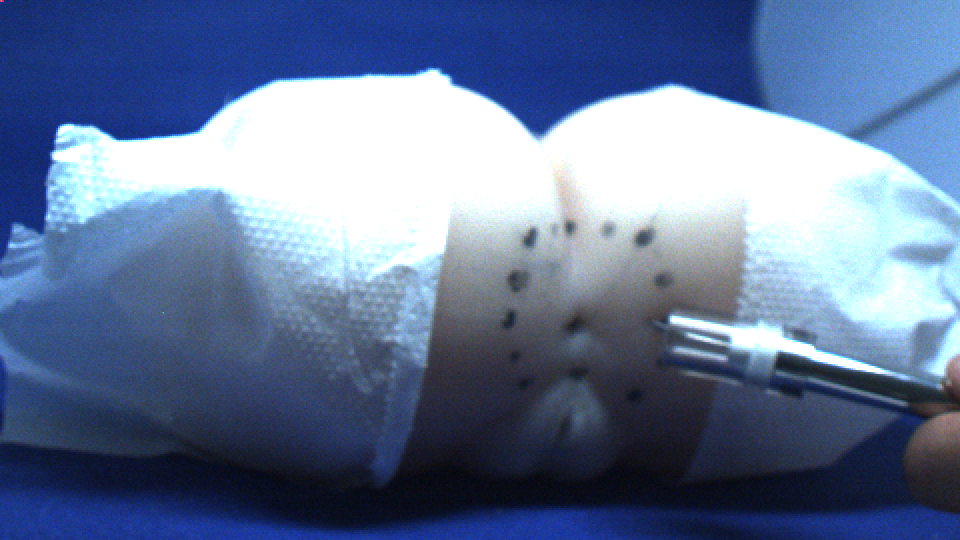asarp_marker: (506, 265, 536, 297), (632, 224, 658, 251), (648, 269, 681, 290), (568, 358, 591, 386), (623, 384, 648, 407), (519, 224, 541, 250), (497, 308, 523, 328), (503, 349, 530, 367), (516, 376, 542, 390), (560, 219, 580, 237), (597, 222, 621, 237)
